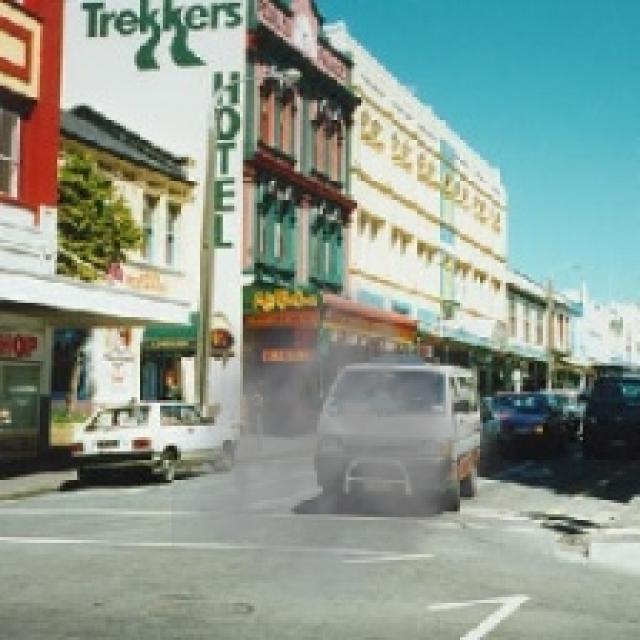Smoke: (172, 268, 528, 628)
